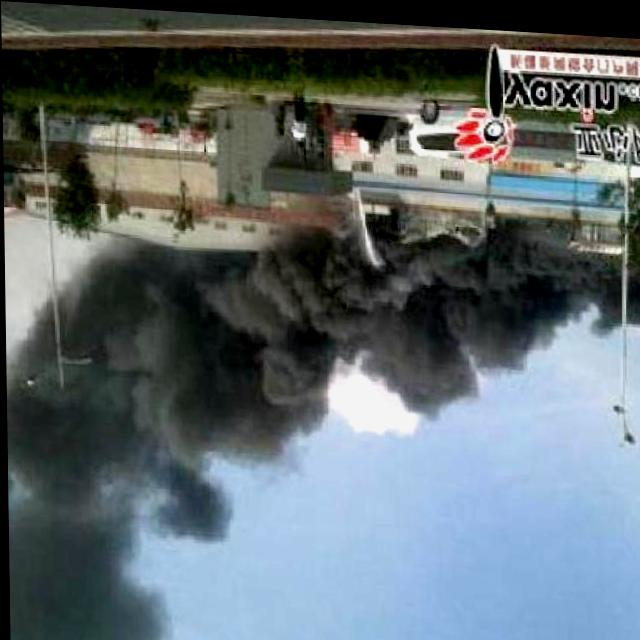Smoke: (4, 345, 229, 520), (315, 219, 483, 412), (29, 238, 238, 354), (6, 514, 164, 640), (226, 247, 314, 467), (481, 221, 605, 369)
